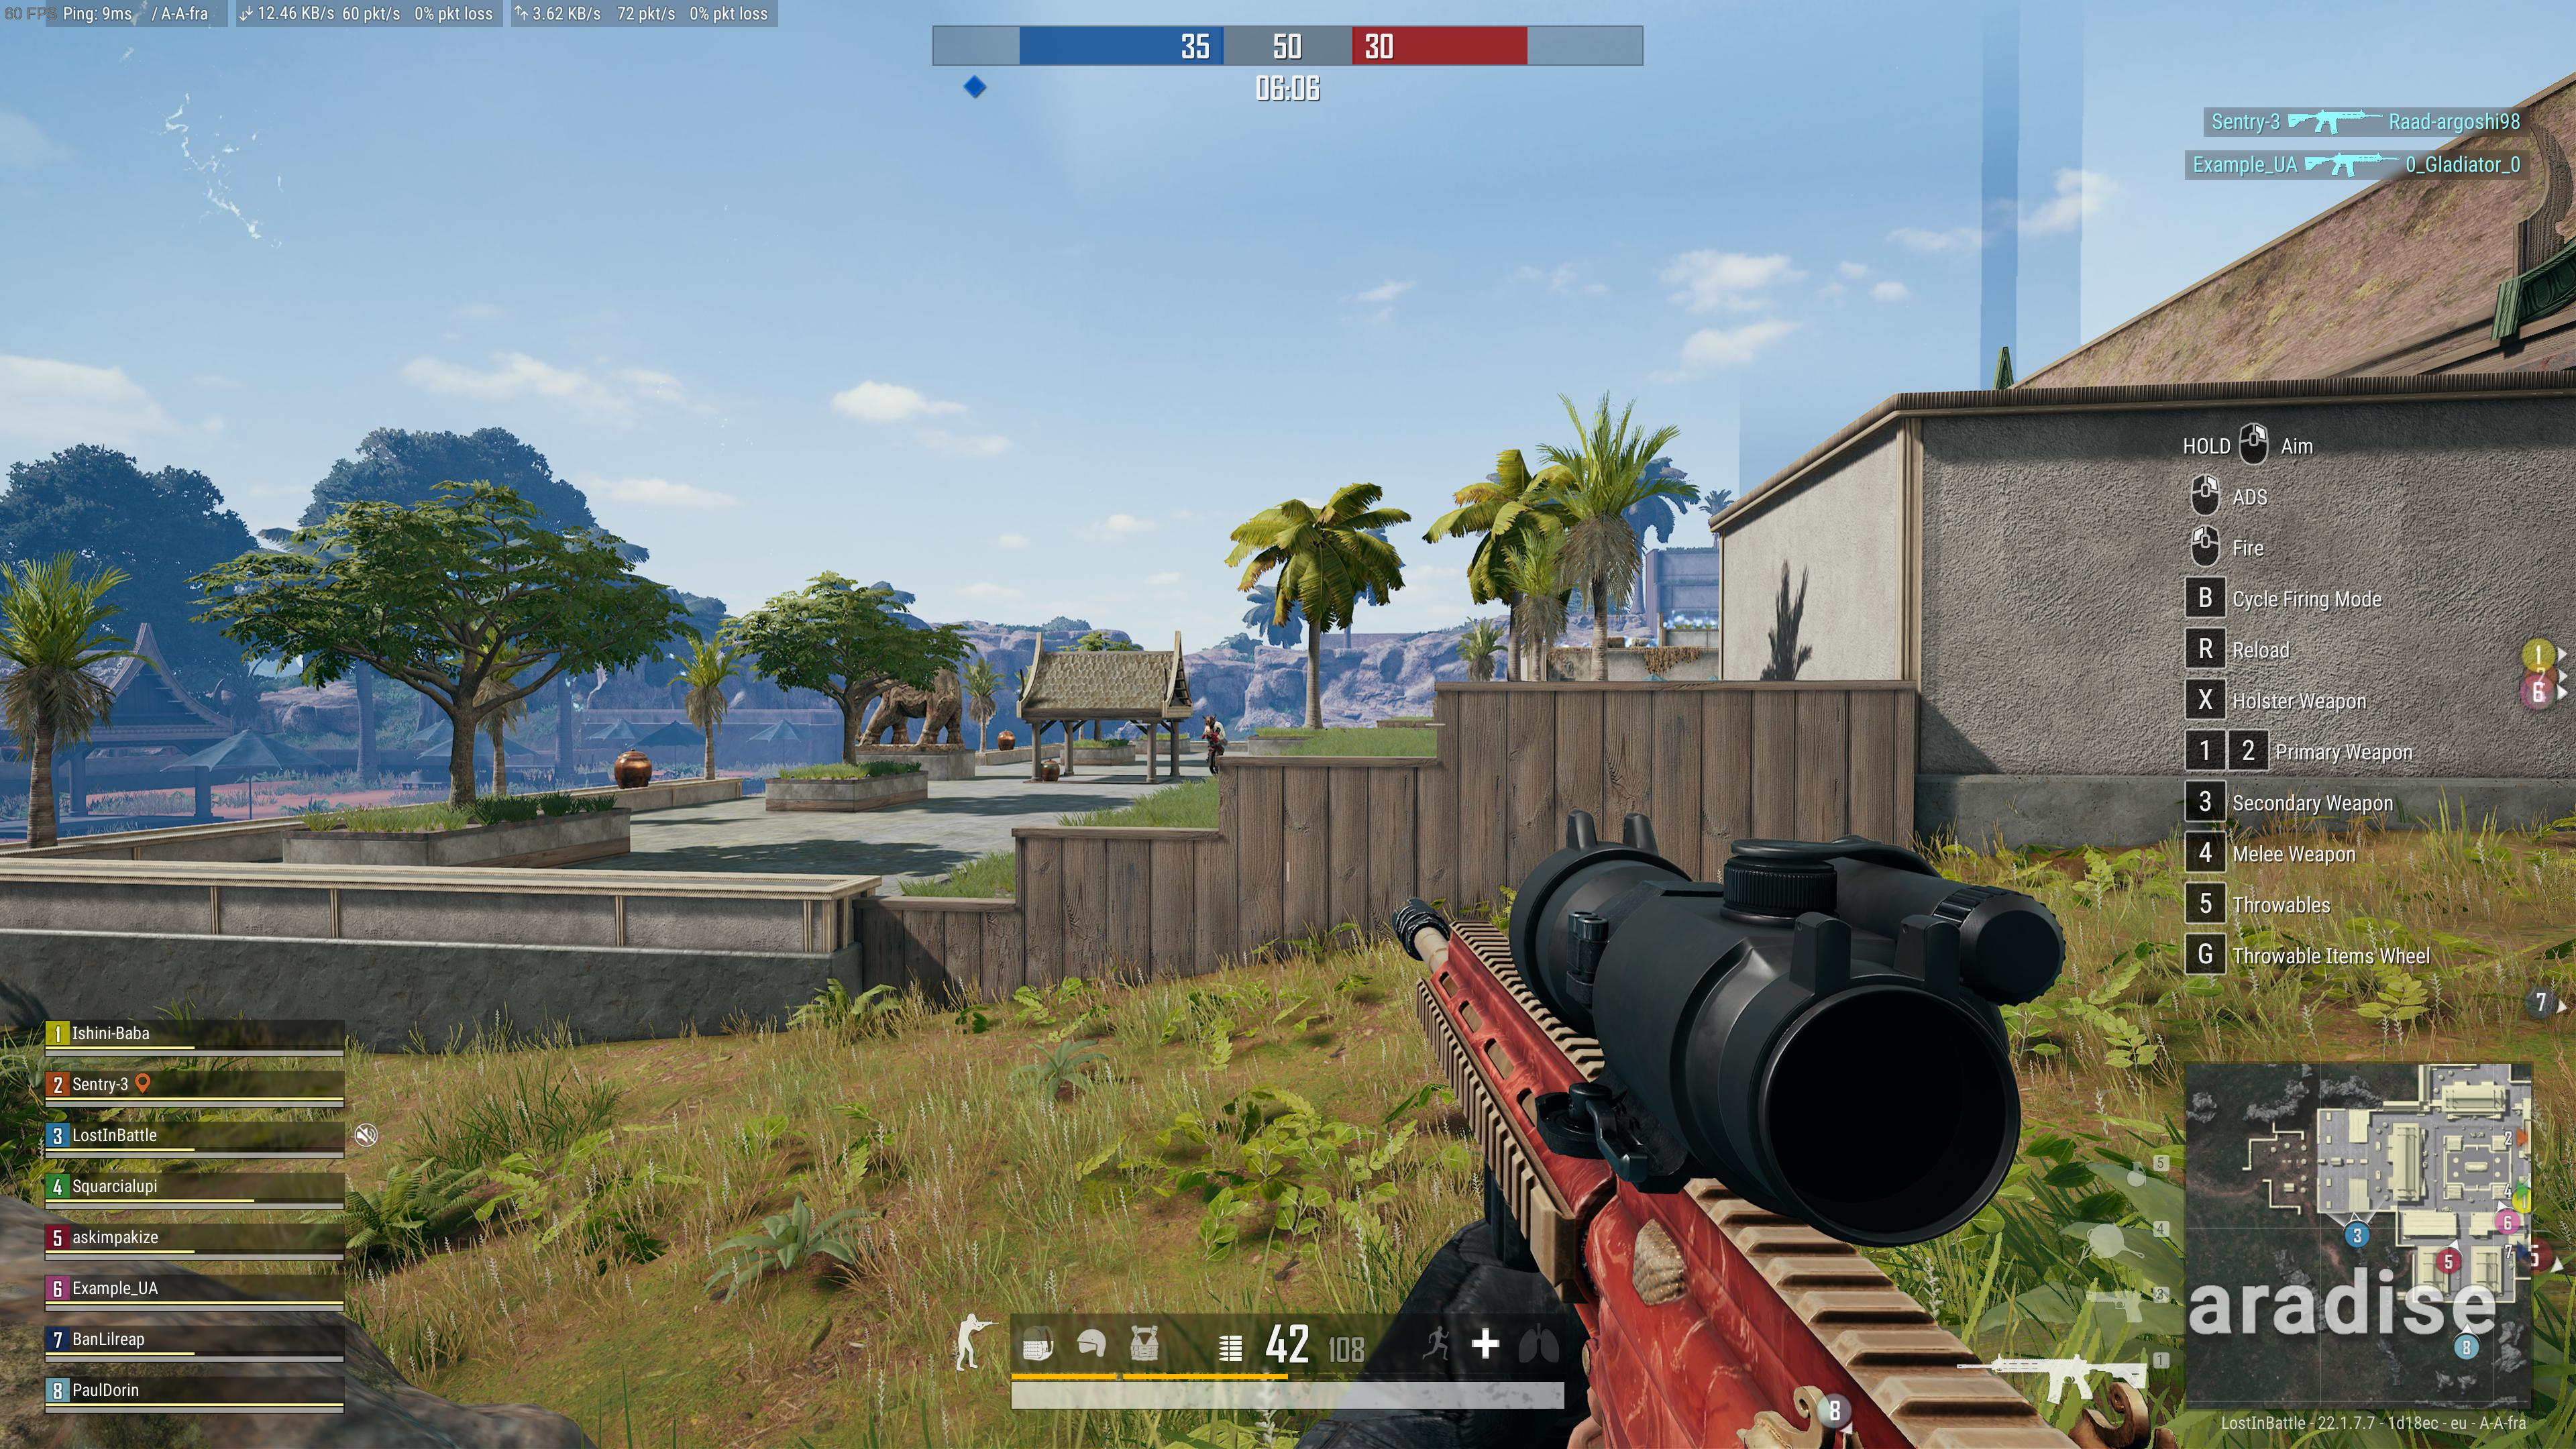enemy: (1200, 713, 1226, 780)
enemy_head: (1201, 713, 1215, 729)
